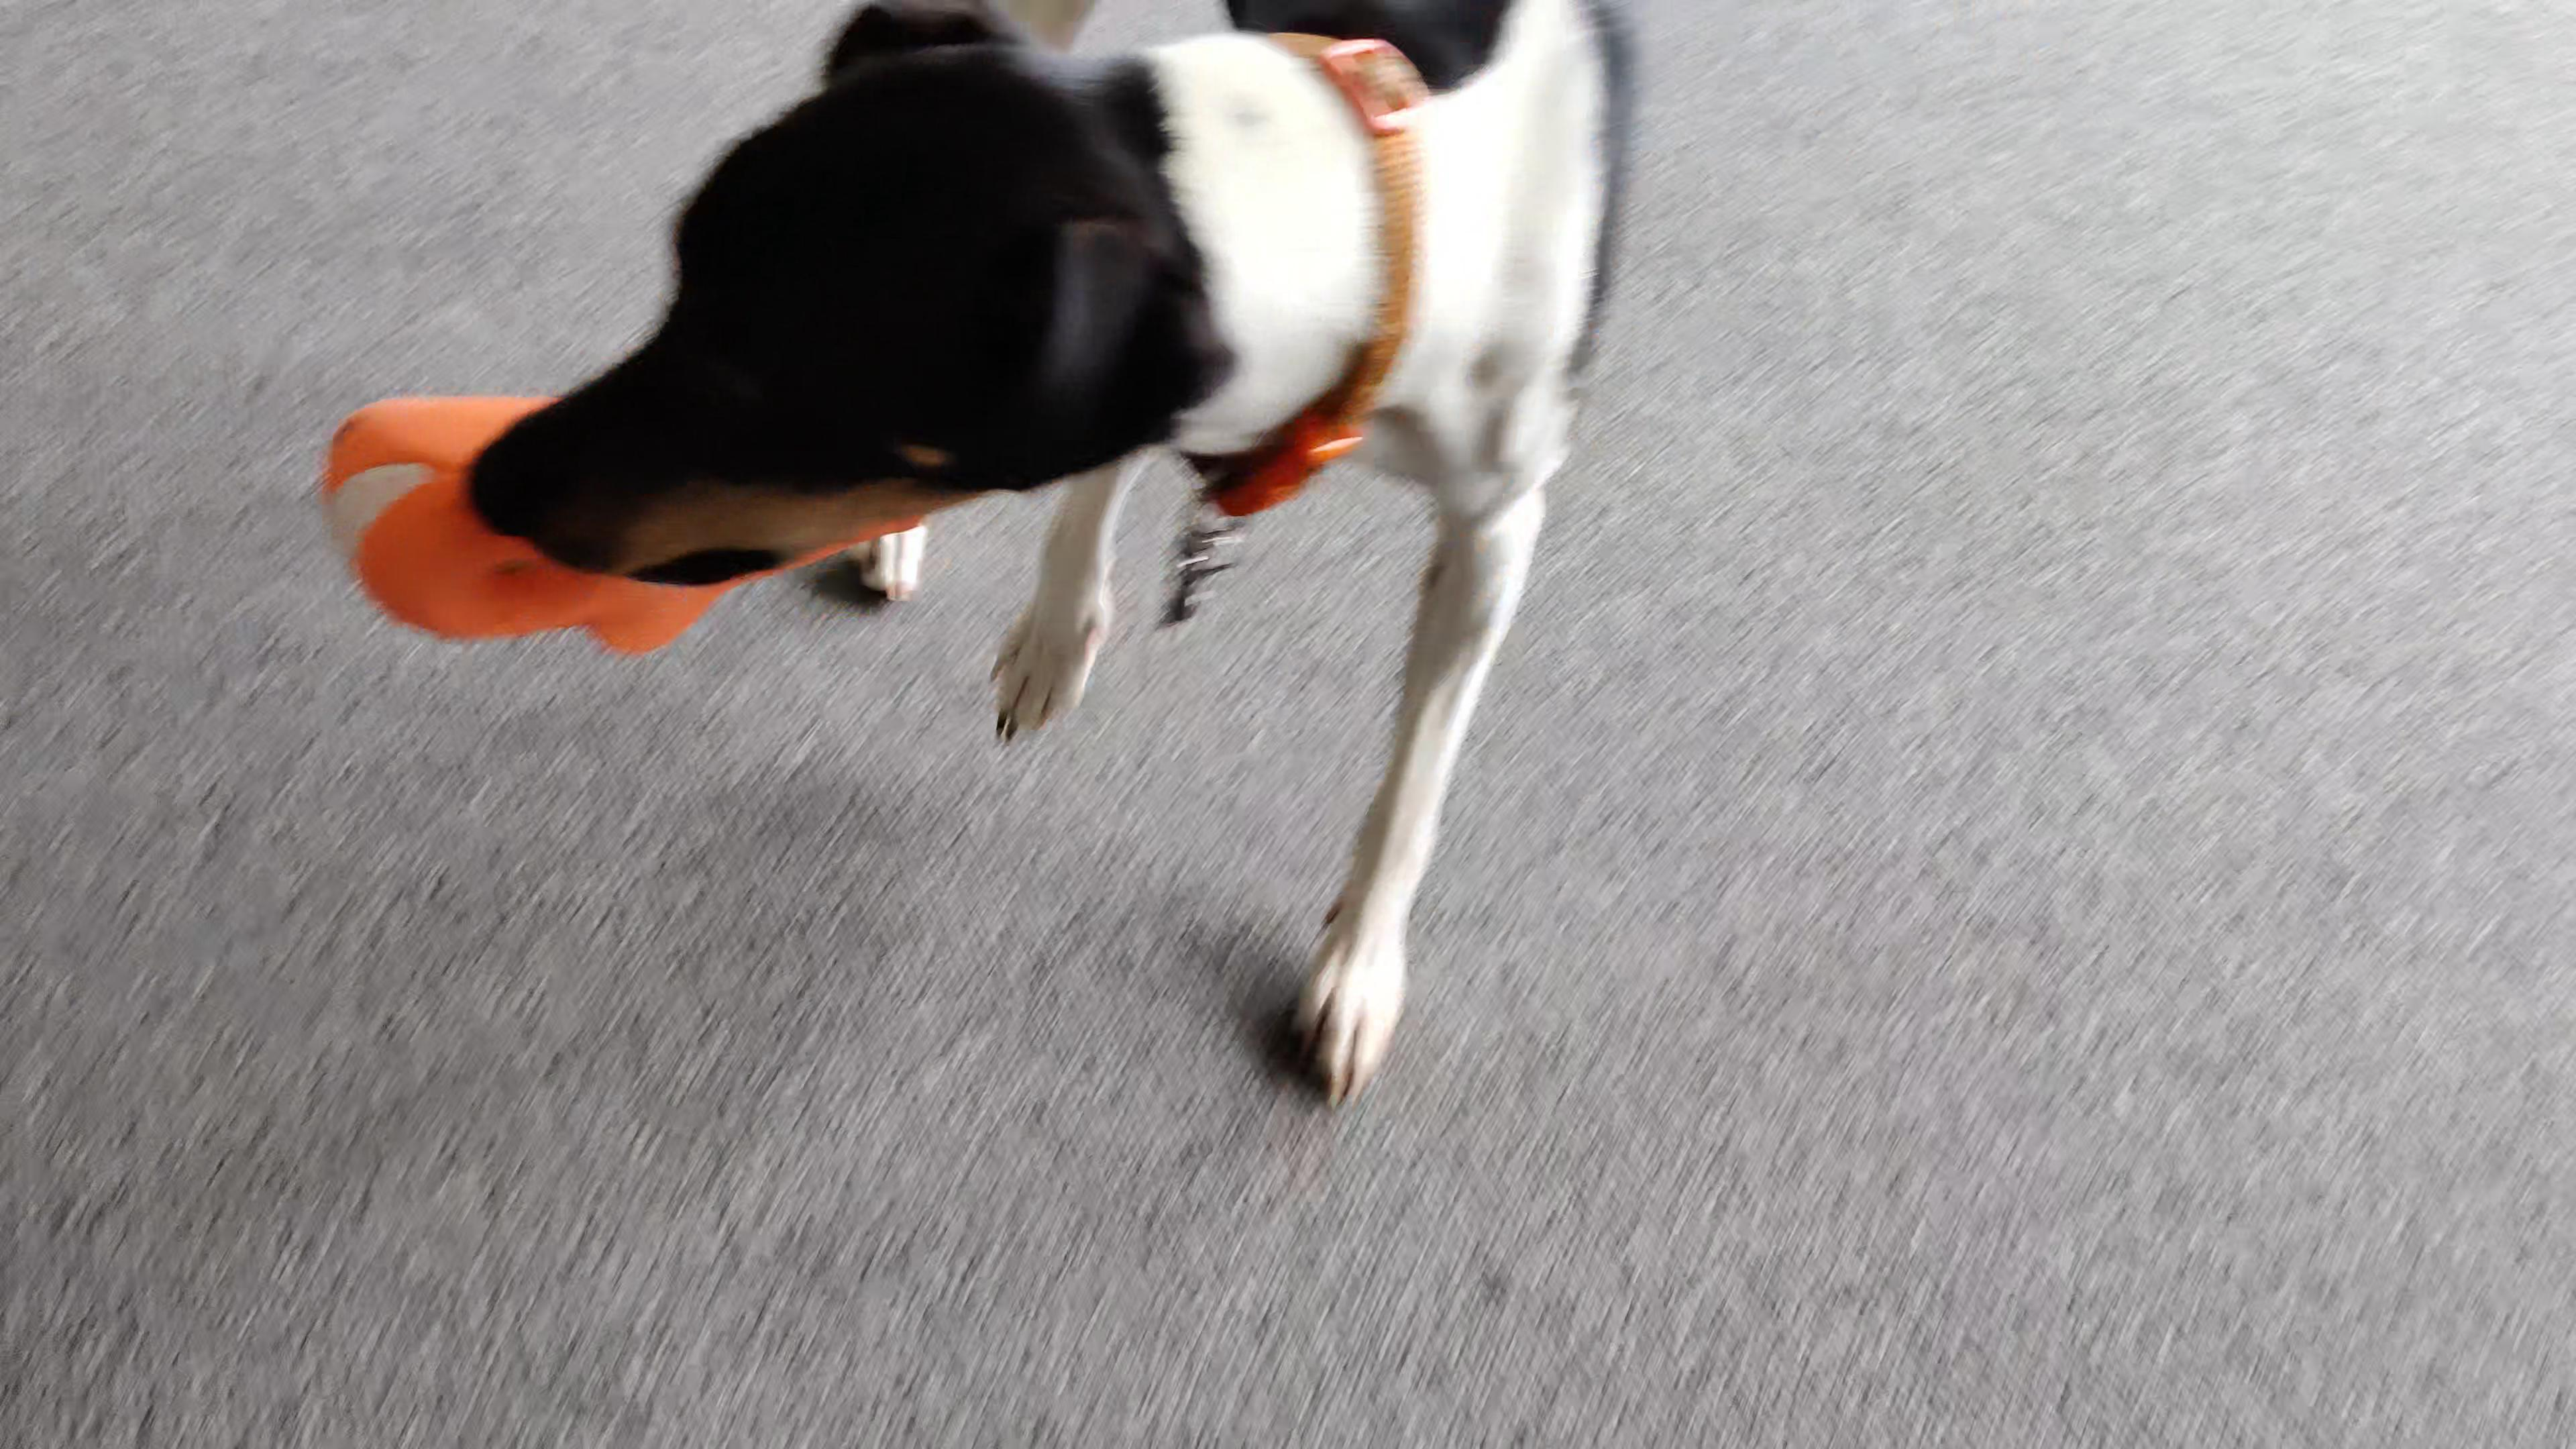Dog: (444, 0, 1668, 1123)
